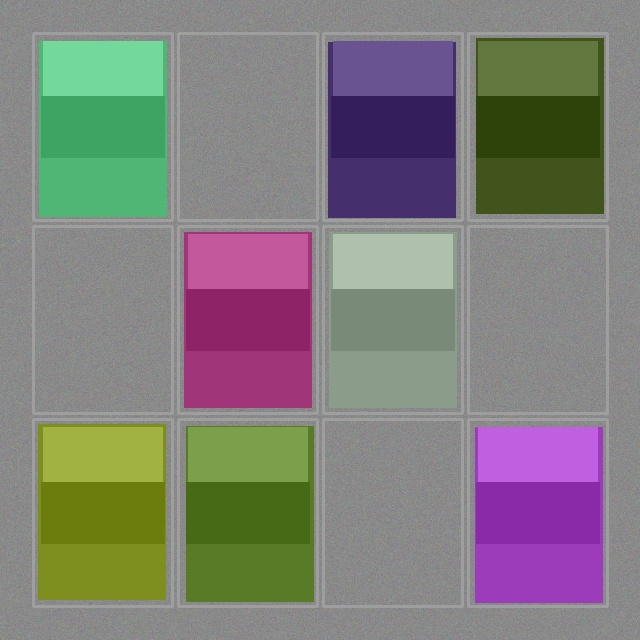space-empty: (180, 35, 315, 218), (35, 228, 170, 411), (470, 228, 605, 411), (325, 421, 460, 604)
space-occupied: (35, 35, 170, 218), (325, 35, 460, 218), (470, 35, 605, 218), (180, 228, 315, 411), (325, 228, 460, 411), (35, 421, 170, 604), (180, 421, 315, 604), (470, 421, 605, 604)
